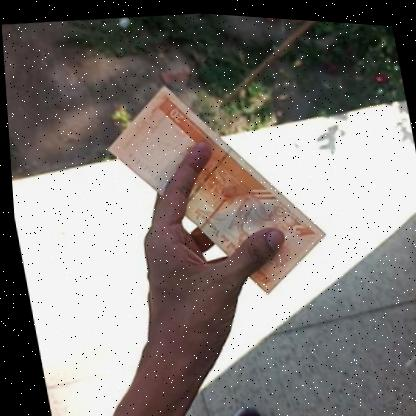twenty-back-vef: (91, 62, 335, 313)
